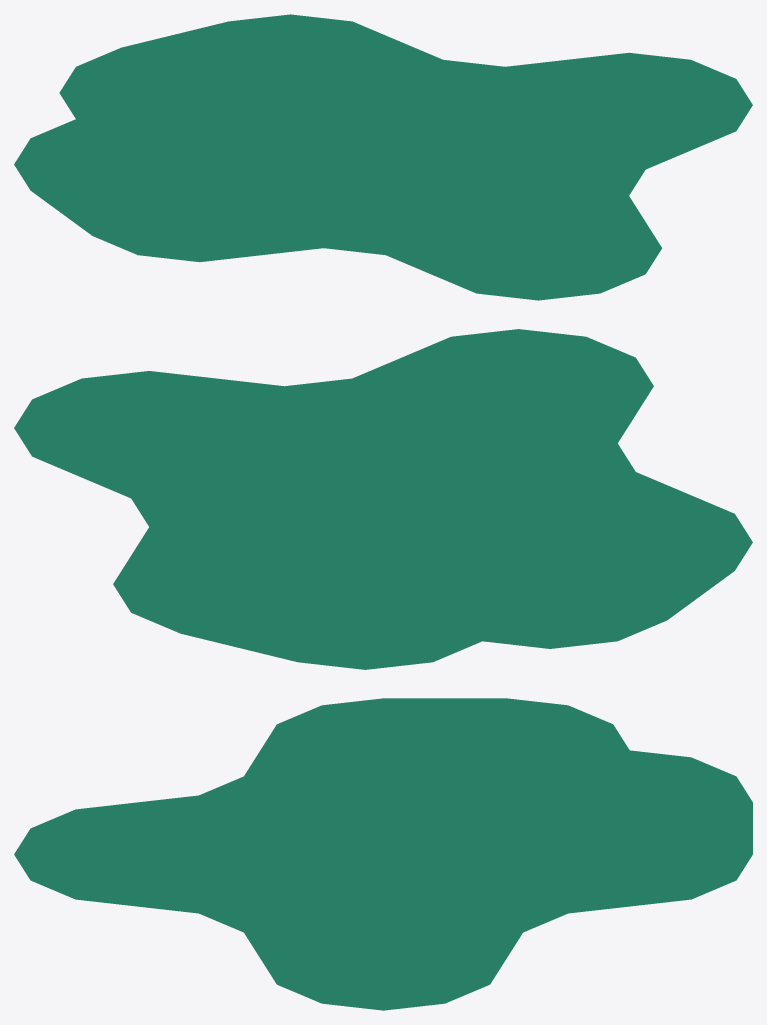
The model's file is grass-patch.glb.
The picture shows the model from 3 angles, top to bottom: view 1: azimuth 30°, elevation 25°; view 2: azimuth 150°, elevation 25°; view 3: azimuth 270°, elevation 25°; orthographic projection. The views are drawn at different scales.
Visible parts, largest first — view 1: patch-grass; view 2: patch-grass; view 3: patch-grass.
Boxes of the visible parts, x1=… form: patch-grass: x1=14, y1=14, x2=752, y2=300; patch-grass: x1=14, y1=329, x2=752, y2=669; patch-grass: x1=14, y1=698, x2=752, y2=1010.
Size of the model in its own units: 1.2 by 0 by 1.2.
1 material, 1 textured.
